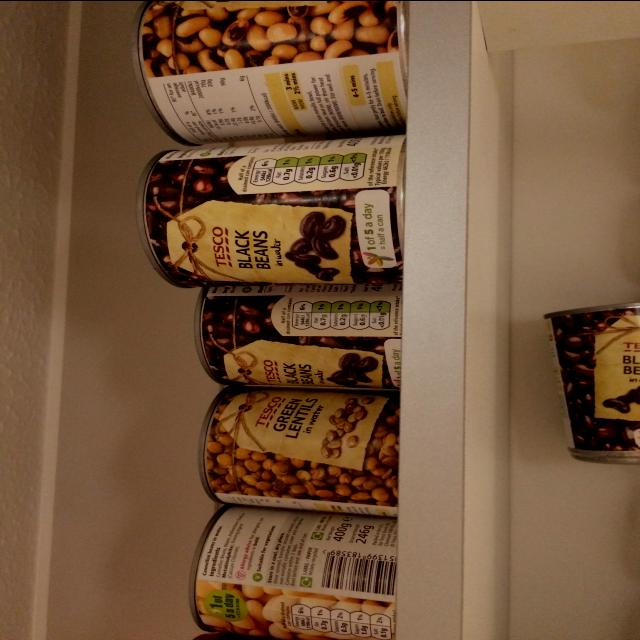Food Can: (136, 133, 406, 288), (131, 0, 410, 146), (188, 504, 398, 640), (198, 384, 400, 517), (194, 283, 402, 389), (543, 301, 640, 464)
